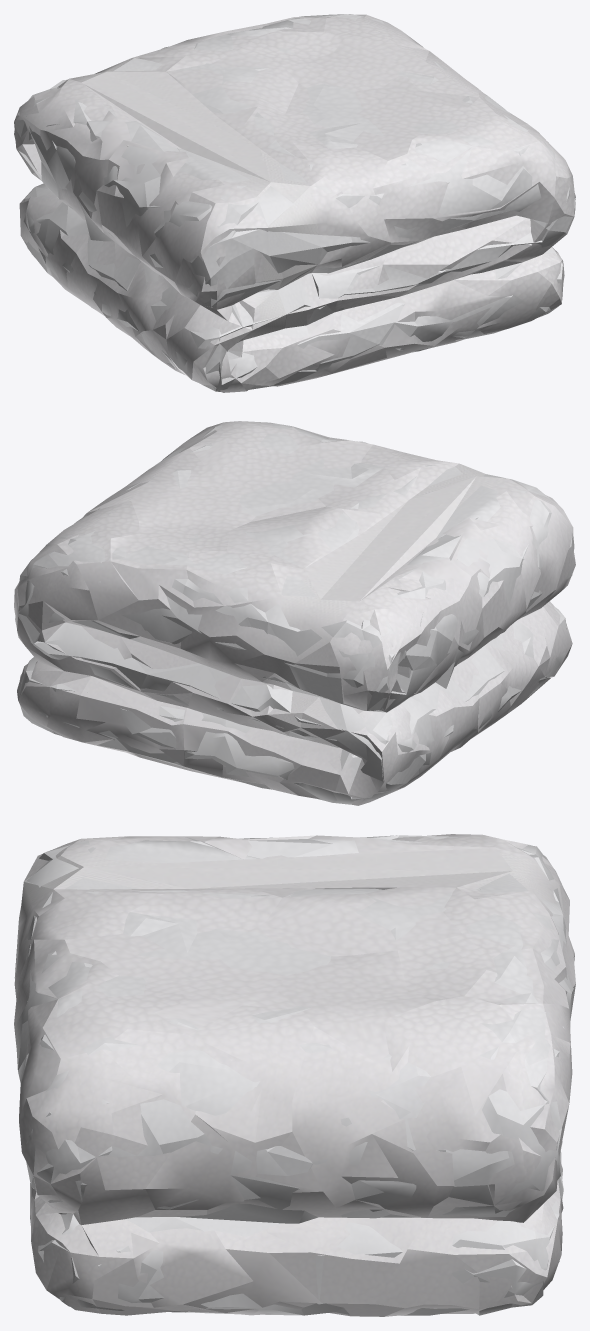
Rendered from Meshy_AI_model1.glb.
3 renders of one model, top to bottom at view 1: azimuth 30°, elevation 25°; view 2: azimuth 150°, elevation 25°; view 3: azimuth 270°, elevation 25°, orthographic. The views are drawn at different scales.
Visible parts, largest first — view 1: output_unwrapped; view 2: output_unwrapped; view 3: output_unwrapped.
Part boxes in pixels (x1,y1,x2,y2): output_unwrapped: (14, 14, 575, 392); output_unwrapped: (14, 421, 575, 805); output_unwrapped: (14, 834, 575, 1316).
Size of the model in its own units: 1.9 by 0.9848 by 1.76.
1 material, 1 textured.
